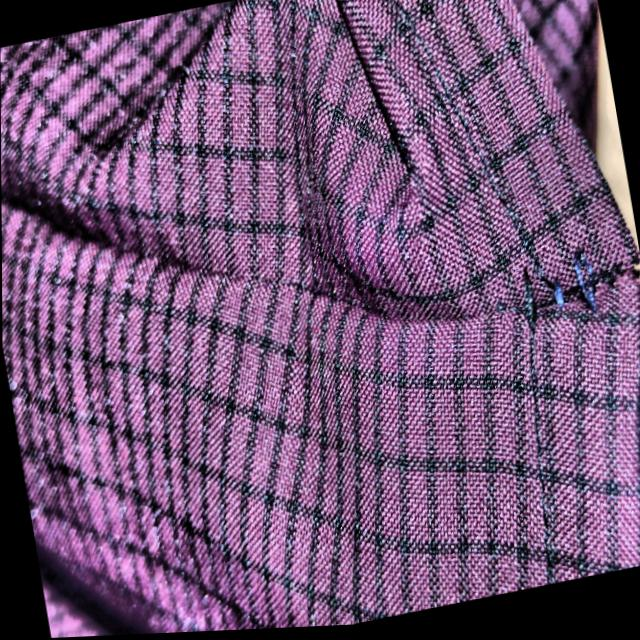Stitch: (489, 208, 636, 373)
